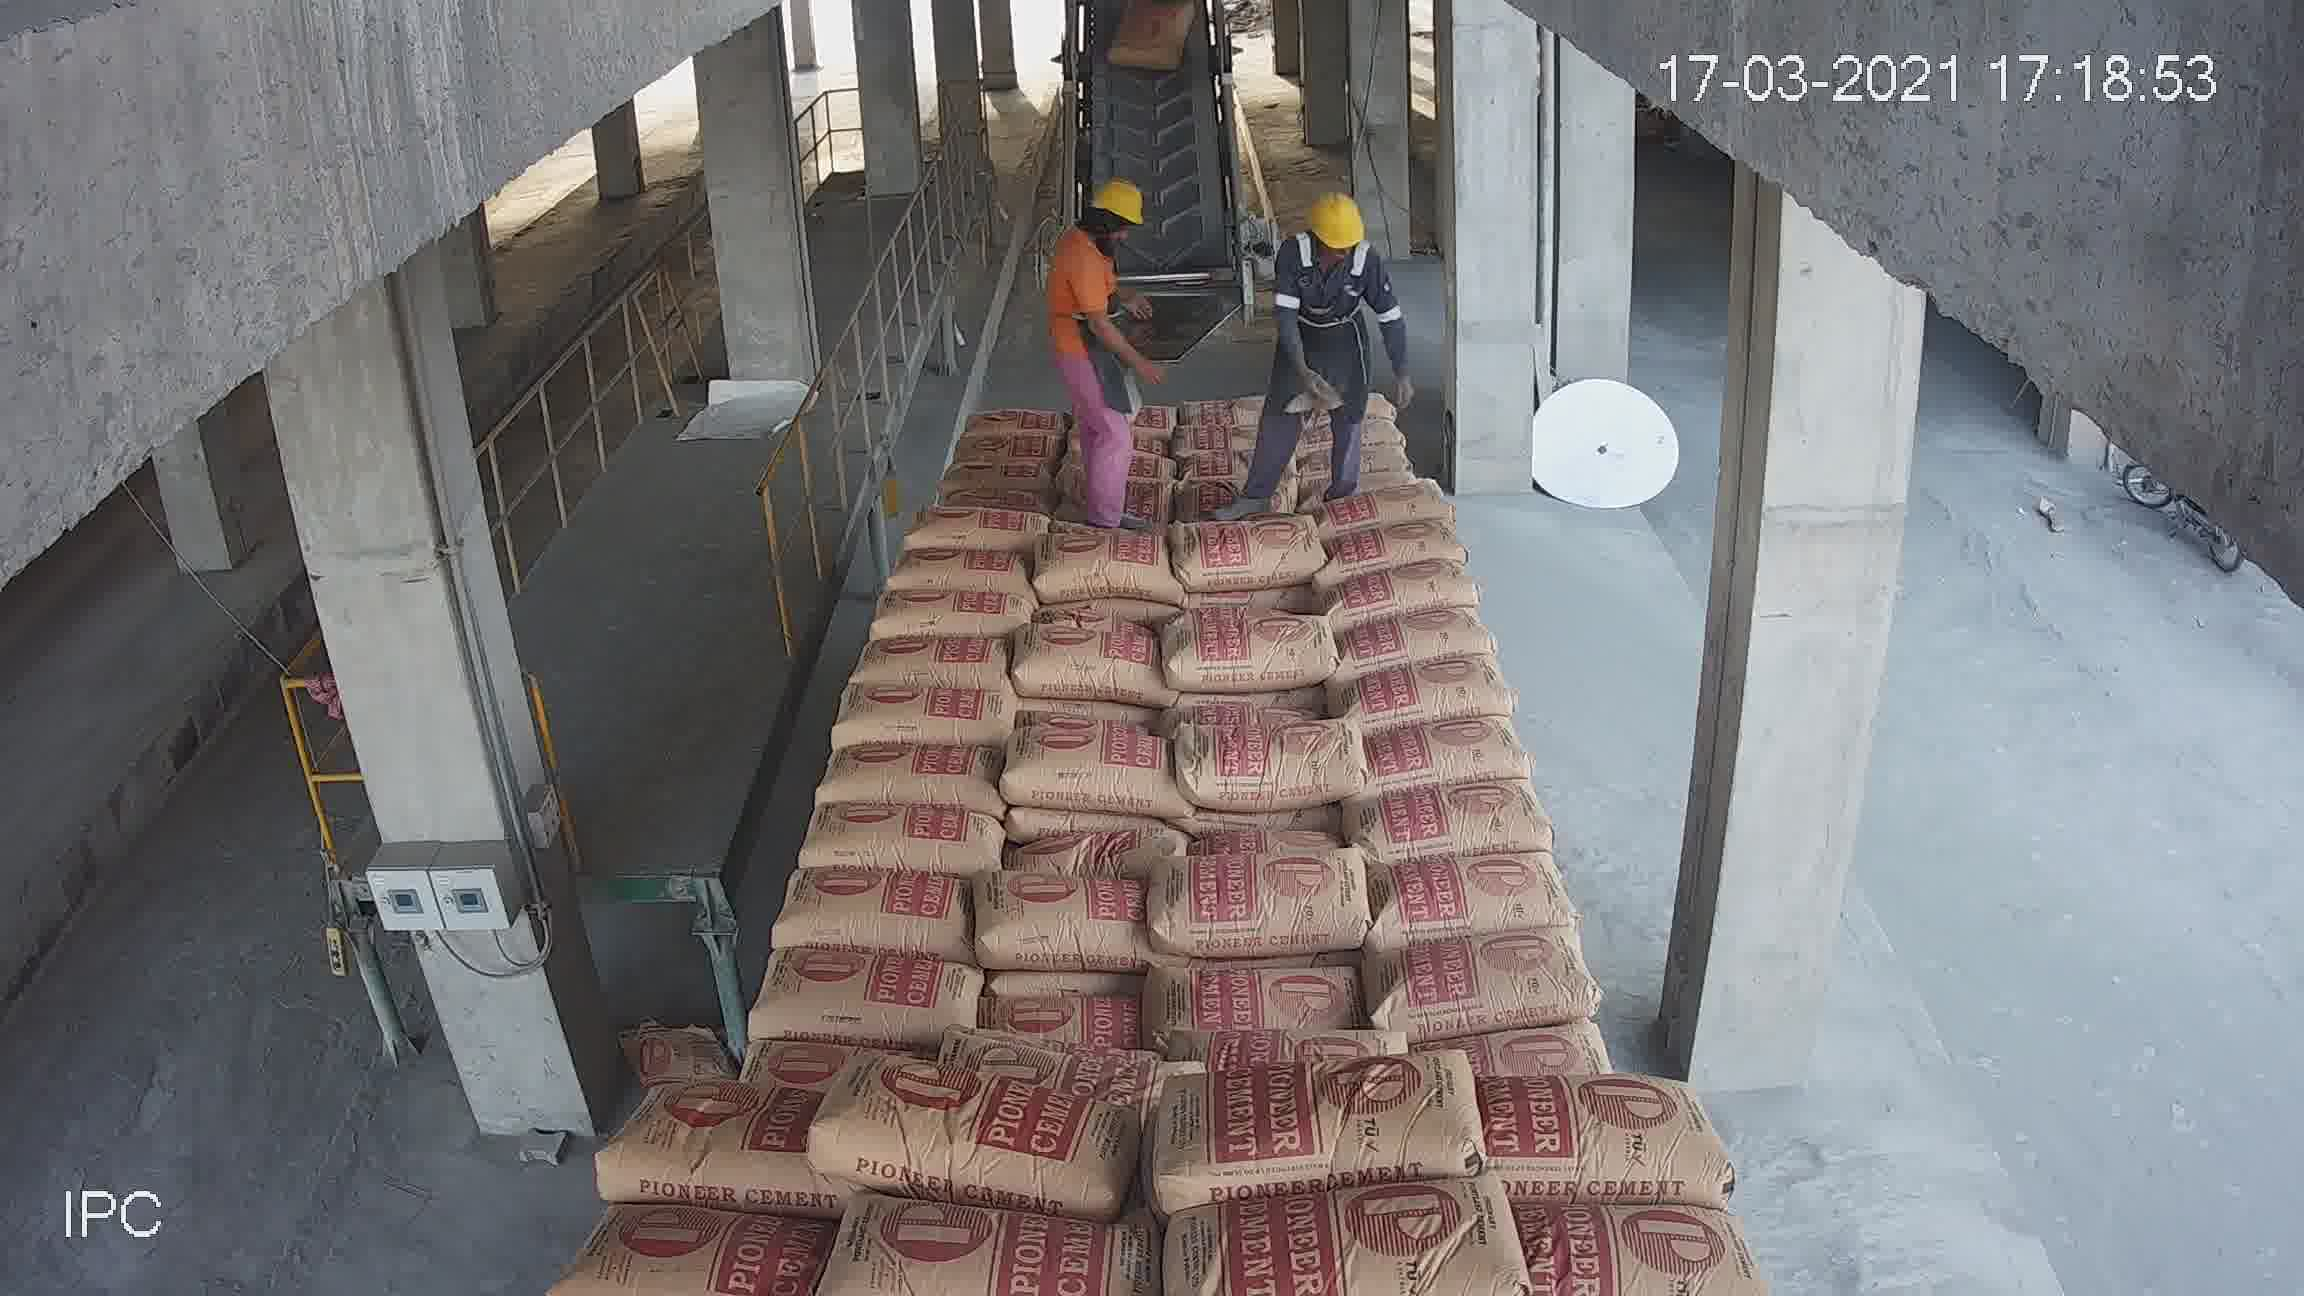bag: (1109, 3, 1193, 70)
bag_h: (812, 1022, 1125, 1211), (1146, 1051, 1478, 1204), (1158, 1180, 1522, 1293), (1489, 1071, 1725, 1195), (1362, 923, 1612, 1035), (1155, 829, 1378, 948), (815, 1207, 1149, 1287), (728, 954, 994, 1049), (585, 1090, 813, 1201), (1521, 1199, 1779, 1290), (562, 1199, 840, 1279), (1154, 951, 1367, 1048), (1366, 851, 1582, 937), (1161, 714, 1370, 801), (1339, 783, 1556, 866), (945, 1036, 1226, 1100), (785, 875, 991, 957), (1173, 1017, 1419, 1082), (785, 807, 1010, 878), (1158, 608, 1340, 690), (994, 722, 1165, 809), (1348, 650, 1519, 731), (986, 886, 1144, 972), (1008, 620, 1152, 712), (1173, 506, 1329, 590), (1324, 606, 1505, 676), (1431, 1022, 1643, 1081), (1378, 718, 1537, 794), (831, 682, 1024, 744), (821, 741, 1005, 805), (886, 476, 1041, 551), (1030, 532, 1177, 601), (869, 582, 1041, 639), (1010, 824, 1176, 881), (856, 628, 1010, 688), (987, 984, 1139, 1040), (1328, 462, 1454, 529), (1334, 563, 1483, 619), (1342, 517, 1472, 574), (883, 538, 1029, 589), (926, 465, 1036, 514), (940, 445, 1049, 484), (1177, 388, 1271, 434), (1179, 411, 1268, 456), (959, 400, 1059, 438), (1184, 449, 1250, 503), (954, 426, 1052, 454)
belt: (1073, 27, 1256, 339)
